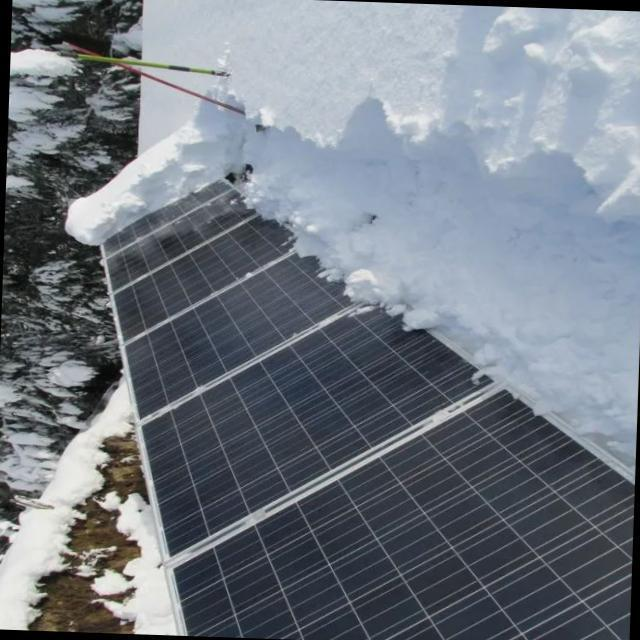Anomaly Solar Panel: (166, 370, 635, 637), (134, 286, 519, 560), (122, 231, 397, 420), (111, 202, 317, 344), (105, 183, 271, 292), (100, 166, 245, 258)
Snow: (138, 2, 639, 472), (65, 116, 238, 250)
